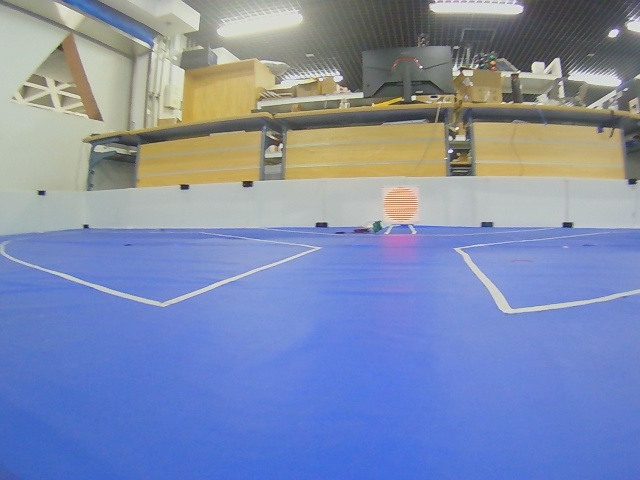red: (383, 187, 419, 224)
